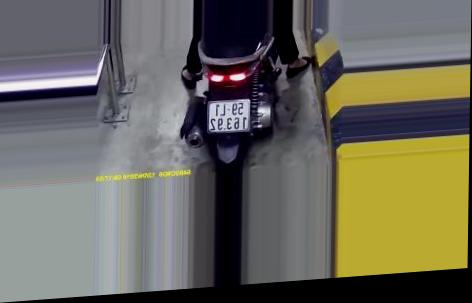License_Plate: (206, 95, 253, 135)
